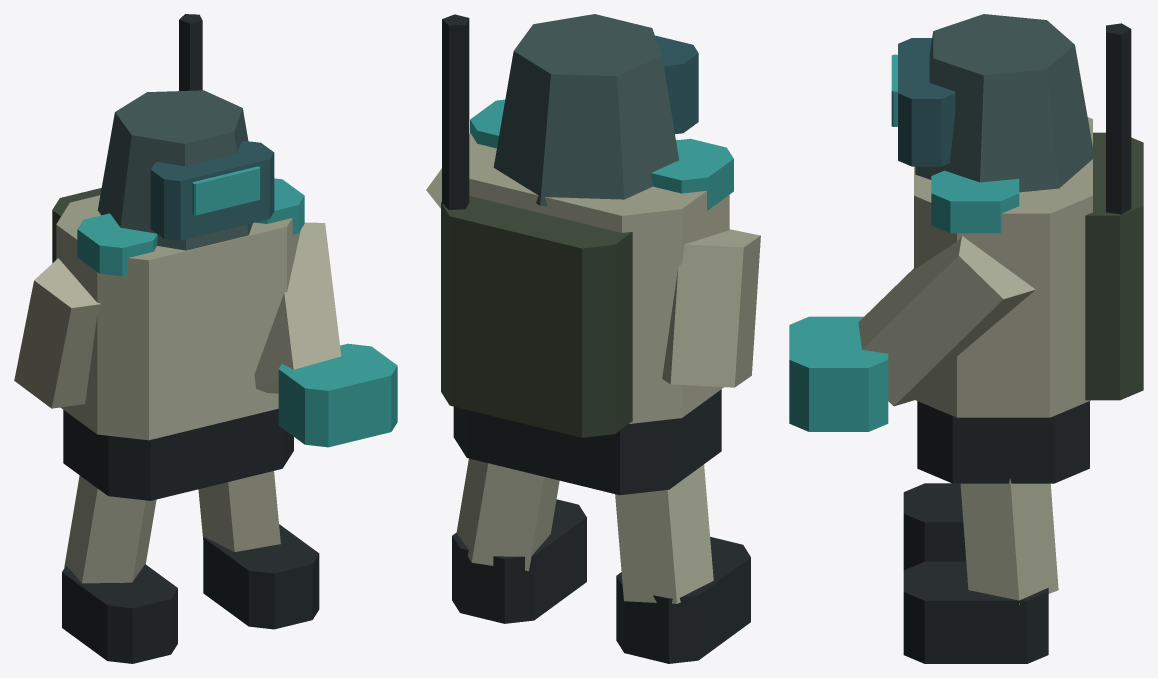
File: science_team.glb
3 renders of one model, left to right at view 1: azimuth 30°, elevation 25°; view 2: azimuth 150°, elevation 25°; view 3: azimuth 270°, elevation 25°, orthographic. The views are drawn at different scales.
Visible parts, largest first — view 1: science_team; view 2: science_team; view 3: science_team.
Boxes of the visible parts, left/top/right/bottom form: science_team: left=14, top=14, right=397, bottom=663; science_team: left=426, top=14, right=760, bottom=663; science_team: left=789, top=14, right=1143, bottom=663.
Size of the model in its own units: 0.4748 by 0.8595 by 0.4515.
